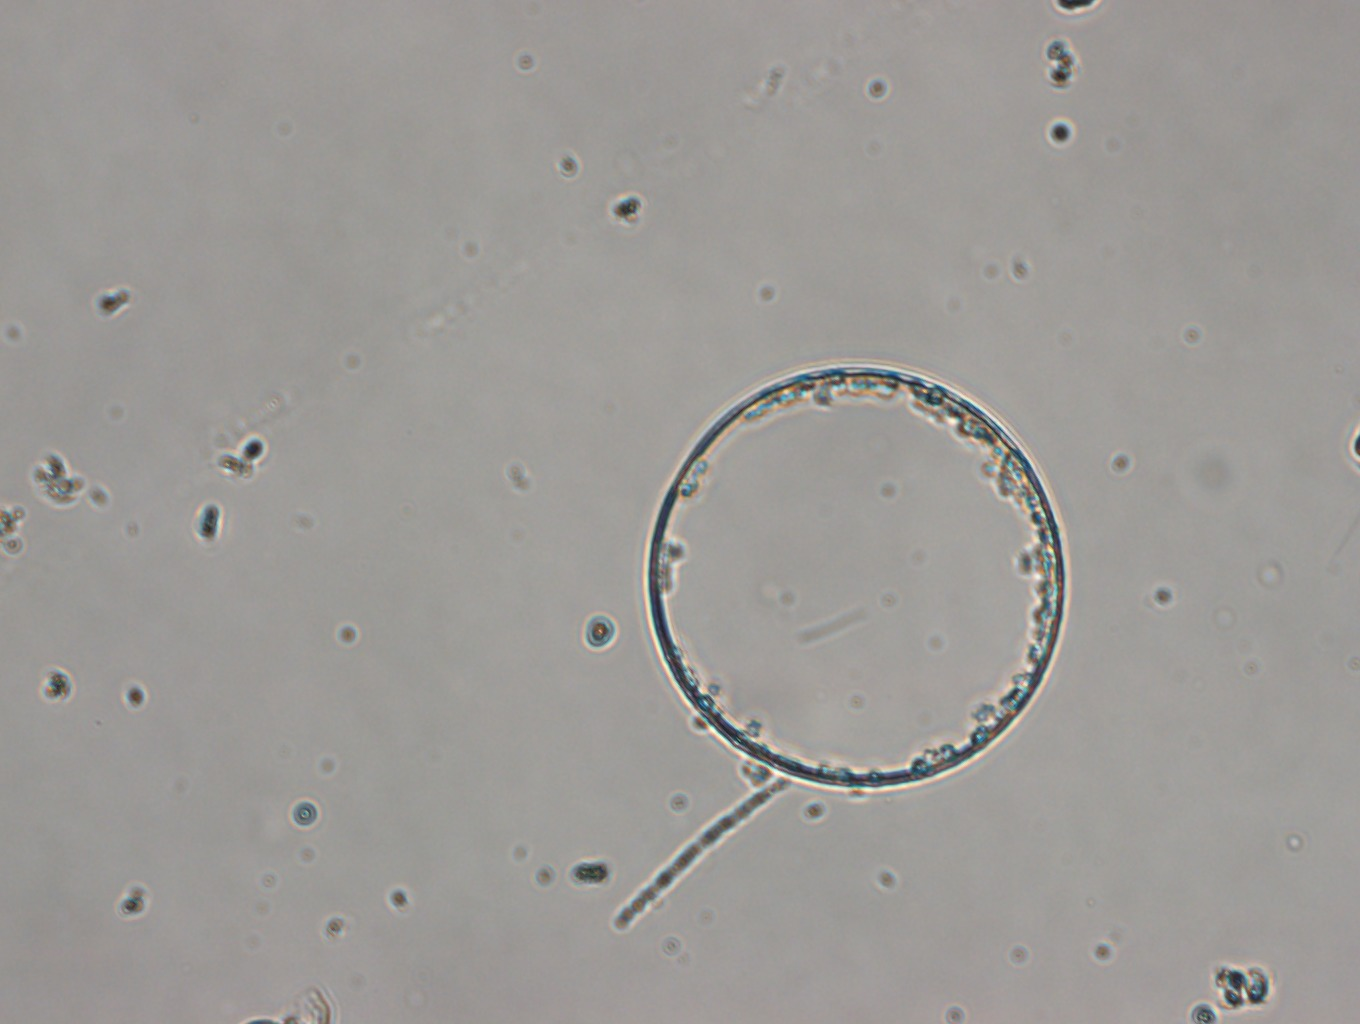coscinodiscus: (643, 361, 1066, 792)
